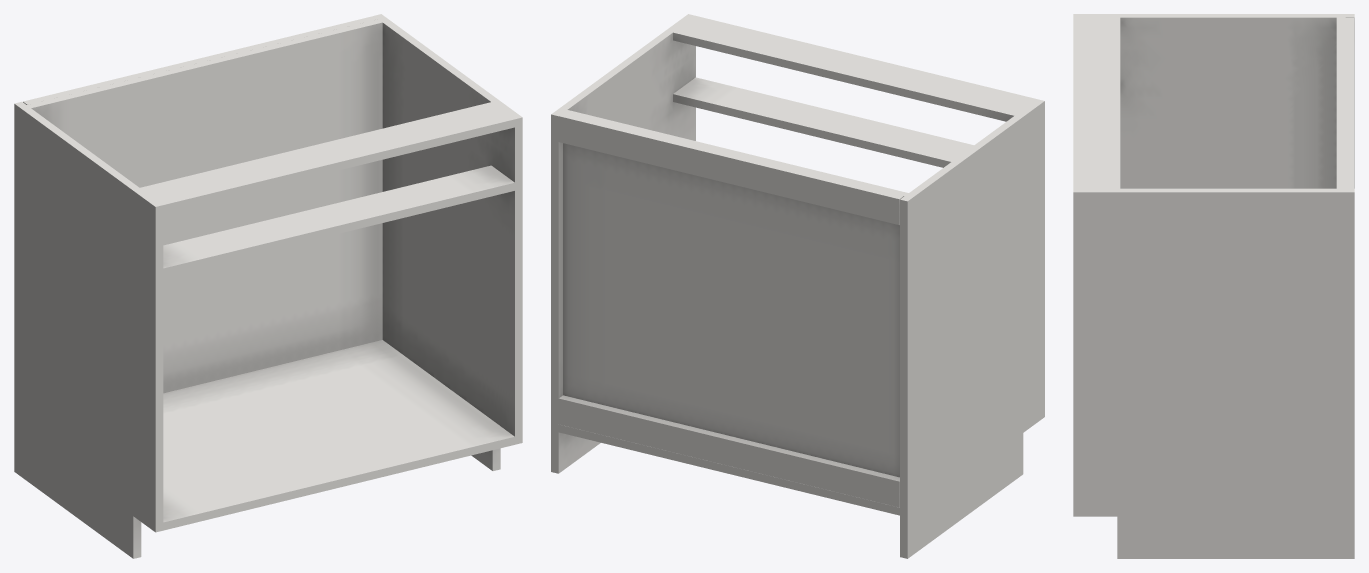
Rendered from sink-base-tip-out-doors-off.glb.
3 views of the same model, side by side, from view 1: azimuth 30°, elevation 25°; view 2: azimuth 150°, elevation 25°; view 3: azimuth 270°, elevation 25° (orthographic). The views are drawn at different scales.
Visible parts, largest first — view 1: part_0; view 2: part_0; view 3: part_0.
Boxes of the visible parts, box(x1,y1,x2,y2) form: part_0: box(14, 14, 522, 558); part_0: box(551, 14, 1044, 558); part_0: box(1073, 14, 1354, 558).
Bounding box in the file's own units: 0.9144 × 0.8763 × 0.6096.
1 material, 1 textured.
